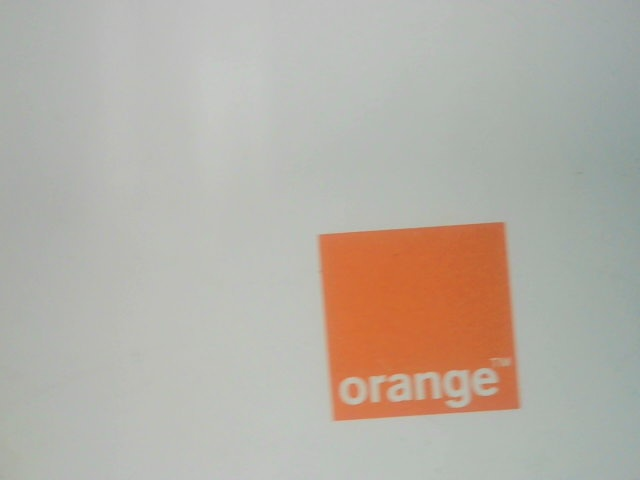AR_Orange: (314, 219, 525, 420)
